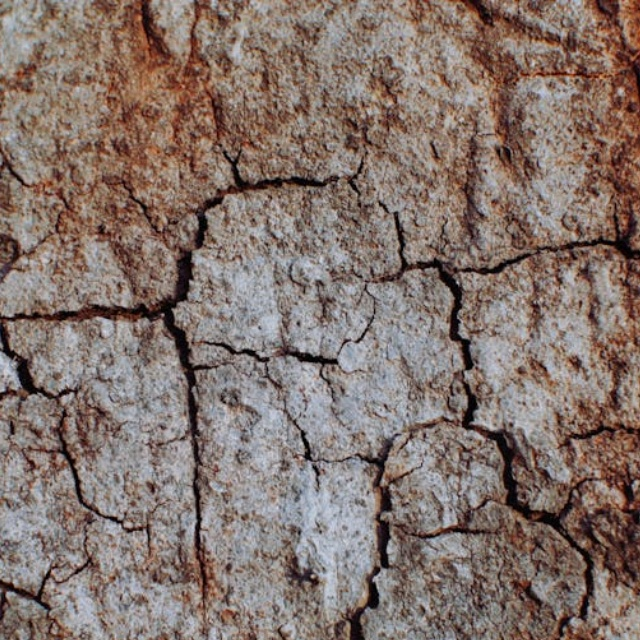细微裂纹: (81, 160, 259, 590), (129, 288, 254, 628)
网状裂隙: (20, 43, 618, 640), (0, 110, 640, 640)
